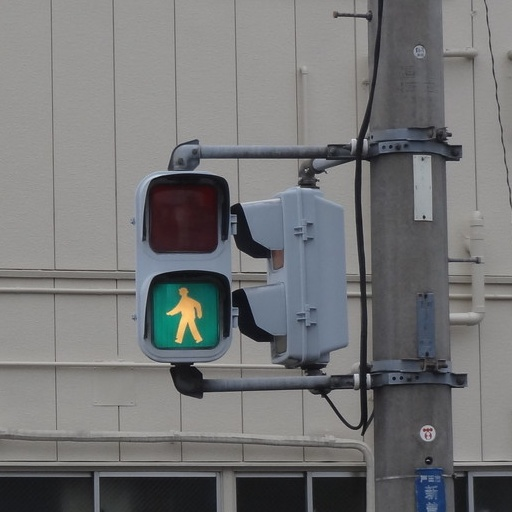Pedestrian_Signal_Blue: (134, 159, 234, 354)
